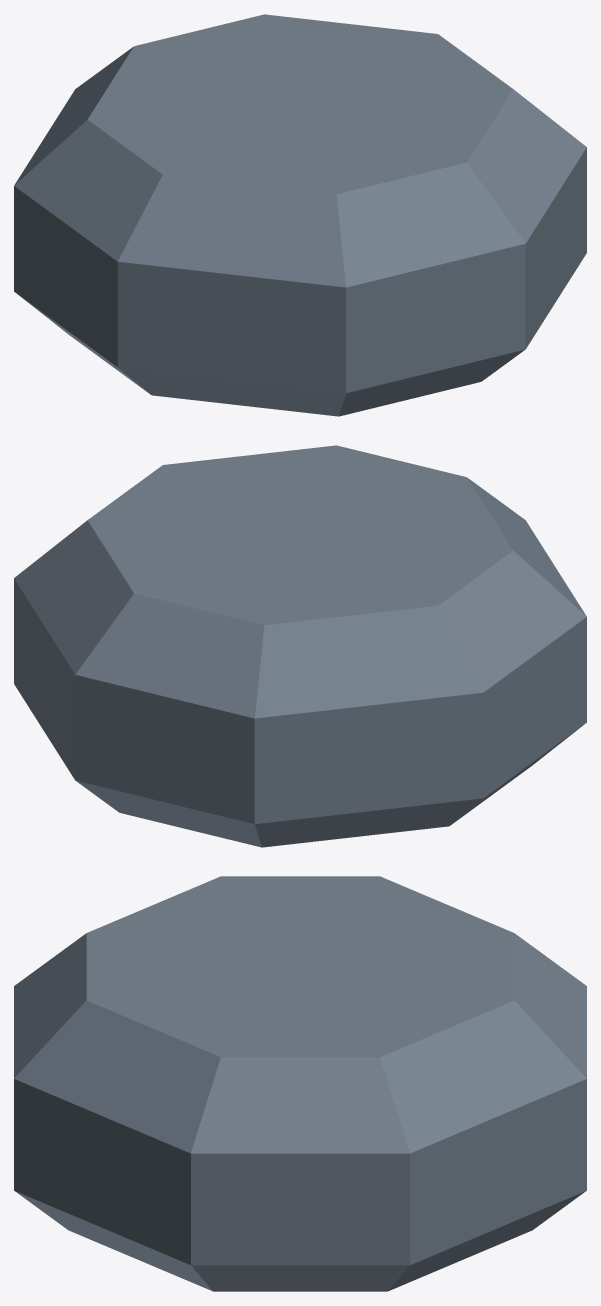
Rendered from Stone_A.fbx.
3 renders of one model, top to bottom at view 1: azimuth 30°, elevation 25°; view 2: azimuth 150°, elevation 25°; view 3: azimuth 270°, elevation 25°, orthographic. The views are drawn at different scales.
Visible parts, largest first — view 1: Stone_A; view 2: Stone_A; view 3: Stone_A.
Boxes of the visible parts, x1,y1,x2,y2 form: Stone_A: (14,14,586,416); Stone_A: (14,445,586,847); Stone_A: (14,876,586,1291).
Size of the model in its own units: 5.28 by 2.31 by 5.28.
Materials: 1 (1 with a texture image).
